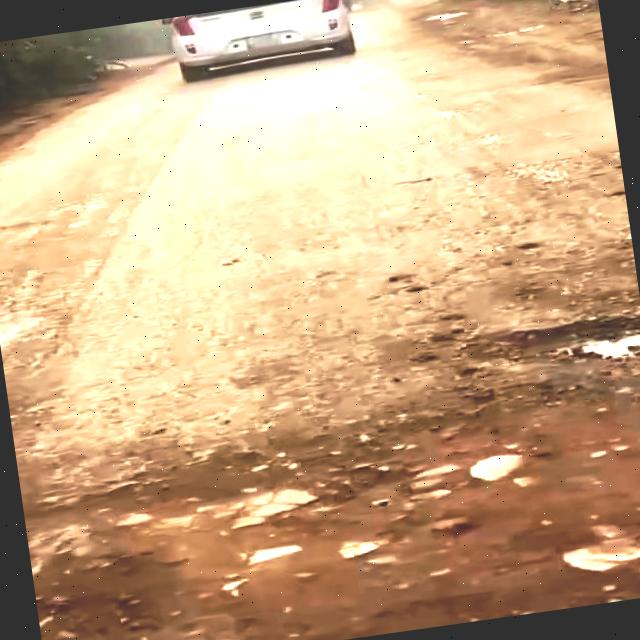pothole: (21, 409, 640, 640), (455, 311, 640, 410)
